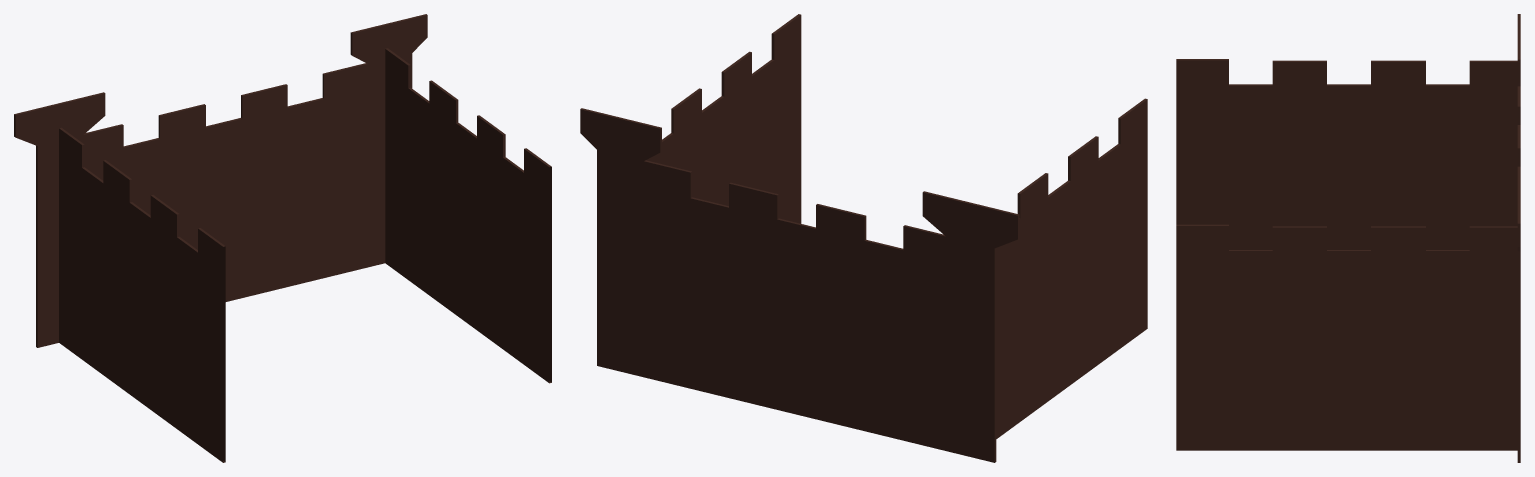
Rendered from Prop_Popup_CastleWall_2_Slide_Animation.fbx.
3 renders of one model, left to right at view 1: azimuth 30°, elevation 25°; view 2: azimuth 150°, elevation 25°; view 3: azimuth 270°, elevation 25°, orthographic. The views are drawn at different scales.
Parts seen in each view (by area): view 1: CastleWall03, CastleWall01, CastleWall02; view 2: CastleWall03, CastleWall02, CastleWall01; view 3: CastleWall01, CastleWall02, CastleWall03.
Boxes of the visible parts, x1,y1,x2,y2 form: CastleWall03: [14, 14, 427, 347]; CastleWall01: [385, 48, 551, 383]; CastleWall02: [59, 127, 225, 462]; CastleWall03: [580, 108, 1019, 462]; CastleWall02: [996, 98, 1147, 438]; CastleWall01: [646, 14, 801, 223]; CastleWall01: [1176, 224, 1517, 450]; CastleWall02: [1176, 59, 1517, 249]; CastleWall03: [1517, 14, 1520, 462].
Size of the model in its own units: 6.34 by 3.5 by 4.41.
